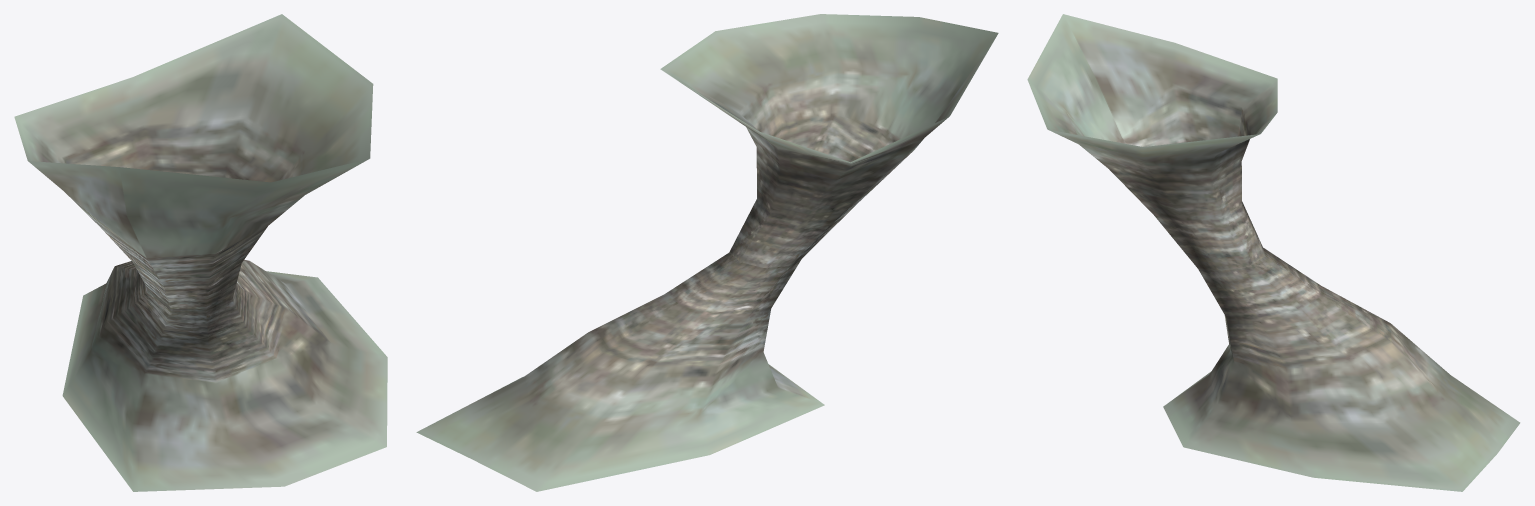
File: TROLLHOLE02_PS-SECRETSTALAG08.fbx
The picture shows the model from 3 angles, left to right: view 1: azimuth 30°, elevation 25°; view 2: azimuth 150°, elevation 25°; view 3: azimuth 270°, elevation 25°; orthographic projection. The views are drawn at different scales.
Visible parts, largest first — view 1: TROLLHOLE02_PS-SECRETSTALAG08; view 2: TROLLHOLE02_PS-SECRETSTALAG08; view 3: TROLLHOLE02_PS-SECRETSTALAG08.
Part boxes in pixels (box(x1,y1,x2,y2)): TROLLHOLE02_PS-SECRETSTALAG08: box(14, 14, 387, 491); TROLLHOLE02_PS-SECRETSTALAG08: box(416, 14, 998, 491); TROLLHOLE02_PS-SECRETSTALAG08: box(1027, 14, 1520, 491).
Bounding box in the file's own units: 55284 × 46596 × 66633.
Materials: 1 (1 with a texture image).
